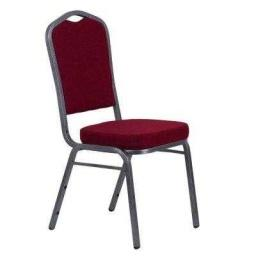Chair: (45, 10, 198, 249)
